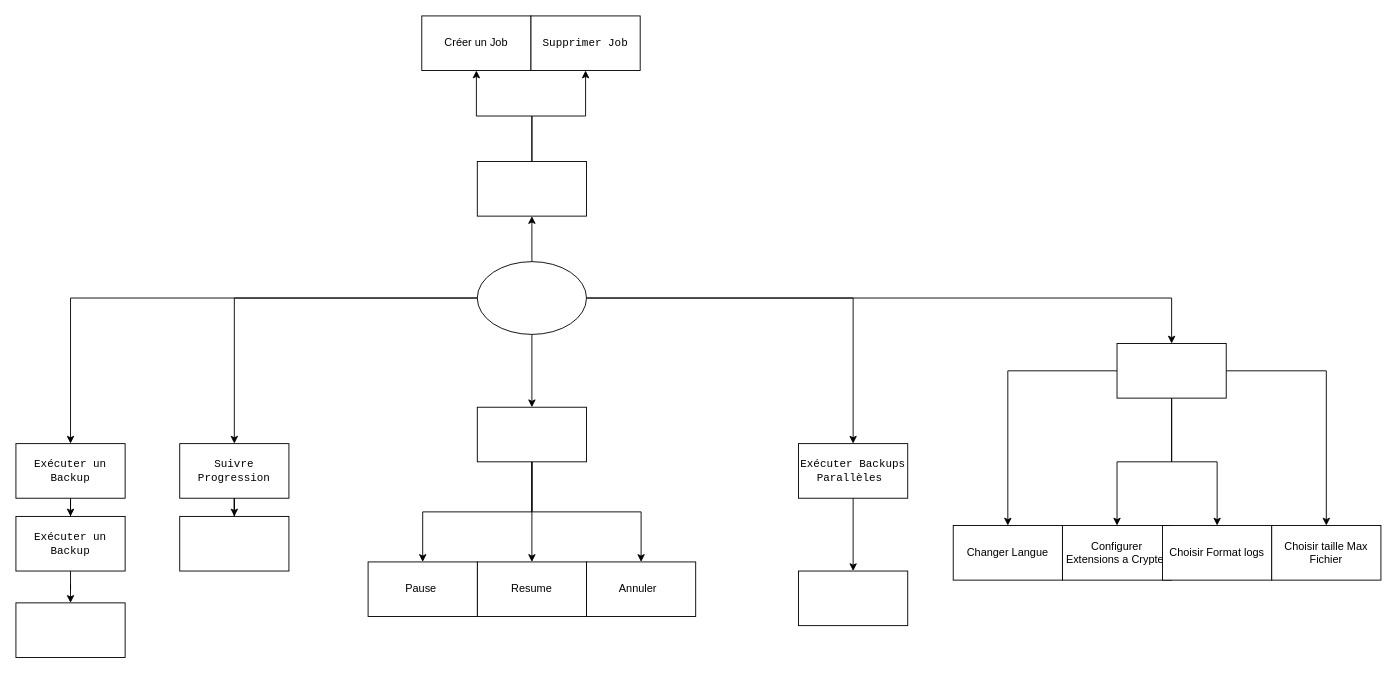
Some shapes in this 1397 by 673 pixel diagram are drawn without their labels. The shapes that lost their labels are listed below. From the top down, each one's box as (x1, y1, x2, y2) in pixels, then its label:
(476, 161, 586, 216): Gérer les jobs
(476, 261, 586, 334): Utilisateur
(1116, 343, 1226, 398): Configurer Settings
(476, 406, 586, 462): Contrôler Backup
(179, 516, 289, 571): Observer Temps Réel
(798, 570, 908, 626): Gérer Concurrence
(15, 602, 125, 657): Crypter Fichiers
